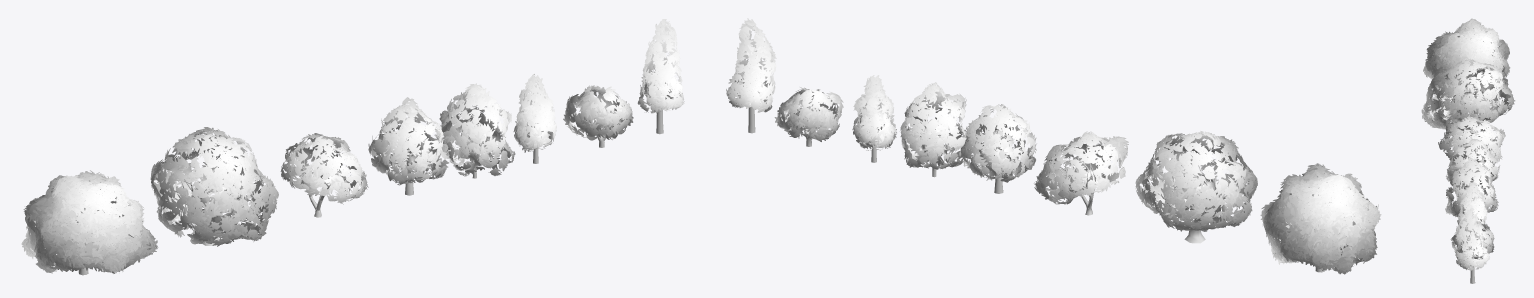
The model's file is tree.fbx.
3 renders of one model, left to right at view 1: azimuth 30°, elevation 25°; view 2: azimuth 150°, elevation 25°; view 3: azimuth 270°, elevation 25°, orthographic. The views are drawn at different scales.
Parts seen in each view (by area): view 1: leaf_5, leaf_8, leaf_1, leaf_3, leaf_7, leaf_4, leaf_6, leaf_2; view 2: leaf_8, leaf_5, leaf_7, leaf_1, leaf_3, leaf_4, leaf_6, leaf_2, tree_5, tree_7; view 3: leaf_5, leaf_8, leaf_7, leaf_1, leaf_4, leaf_3, leaf_2, leaf_6, tree_5, tree_4.
Boxes of the visible parts, x1,y1,x2,y2 form: leaf_5: [150, 127, 278, 246]; leaf_8: [21, 170, 158, 273]; leaf_1: [434, 83, 515, 176]; leaf_3: [368, 97, 449, 185]; leaf_7: [280, 133, 368, 204]; leaf_4: [637, 19, 684, 113]; leaf_6: [563, 85, 633, 140]; leaf_2: [513, 73, 556, 152]; leaf_8: [1260, 163, 1381, 274]; leaf_5: [1135, 131, 1257, 231]; leaf_7: [1034, 131, 1128, 204]; leaf_1: [900, 82, 968, 169]; leaf_3: [960, 104, 1036, 182]; leaf_4: [726, 18, 776, 112]; leaf_6: [774, 87, 843, 141]; leaf_2: [852, 75, 896, 148]; tree_5: [1154, 166, 1229, 243]; tree_7: [1050, 156, 1110, 215]; leaf_5: [1421, 59, 1515, 129]; leaf_8: [1423, 18, 1510, 95]; leaf_7: [1438, 112, 1505, 165]; leaf_1: [1445, 158, 1498, 217]; leaf_4: [1454, 208, 1489, 270]; leaf_3: [1446, 138, 1500, 194]; leaf_2: [1457, 182, 1487, 225]; leaf_6: [1450, 221, 1494, 253]; tree_5: [1441, 84, 1498, 136]; tree_4: [1461, 231, 1483, 283].
Bounding box in the file's own units: 68.24 × 11.6 × 13.53.
